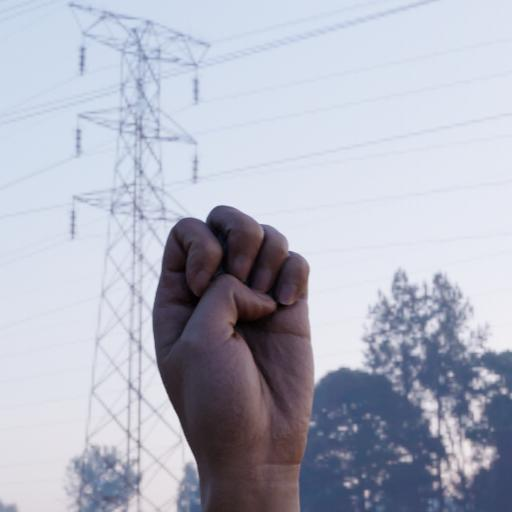E: (144, 198, 322, 469)
